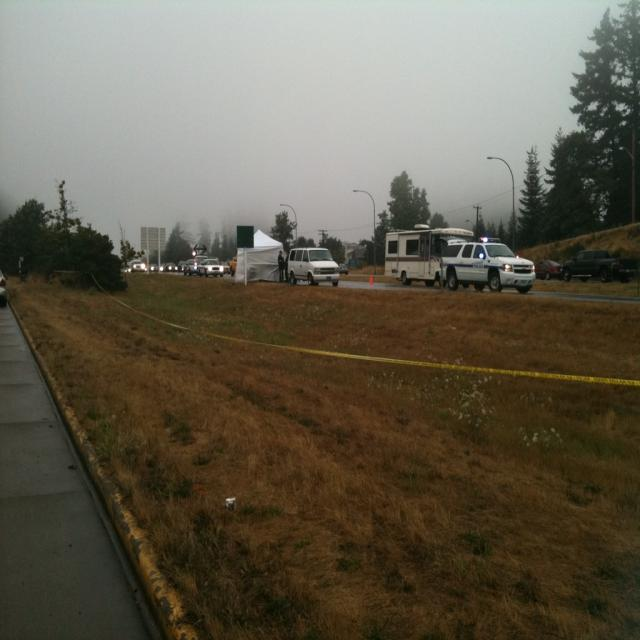car: (438, 233, 536, 289)
